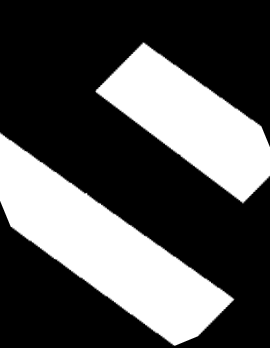parkingspot: (0, 133, 234, 346), (96, 43, 270, 203)
